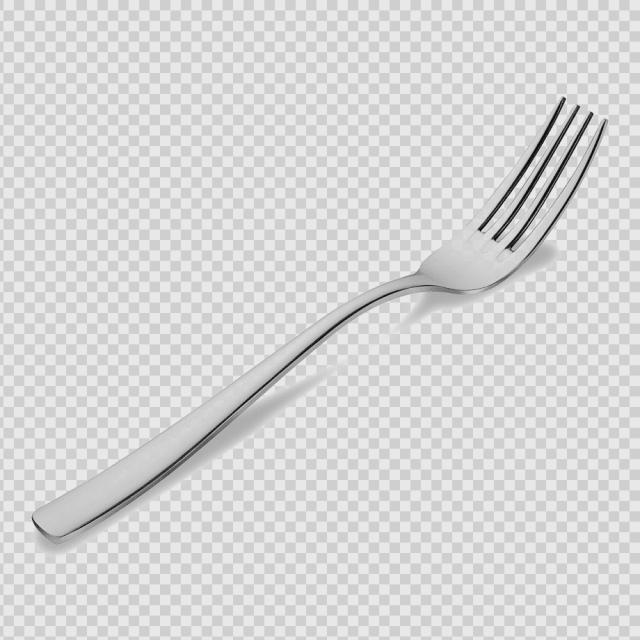Garpu: (18, 85, 610, 550)
